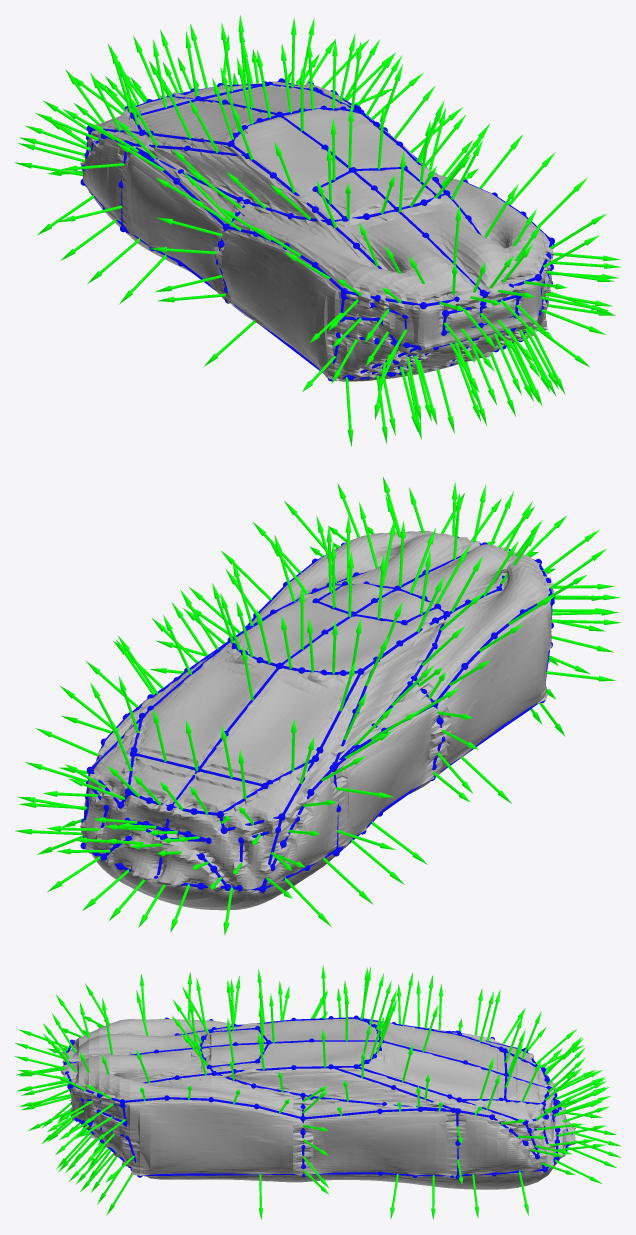
Rendered from ils_car3.gltf.
3 renders of one model, top to bottom at view 1: azimuth 30°, elevation 25°; view 2: azimuth 150°, elevation 25°; view 3: azimuth 270°, elevation 25°, orthographic. The views are drawn at different scales.
Bounding box in the file's own units: 0.5441 × 0.3698 × 1.1.
